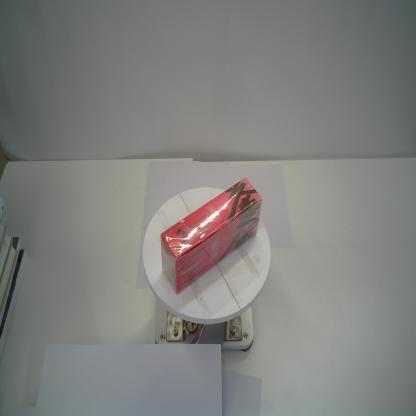Instant Drink: (159, 177, 263, 296)
